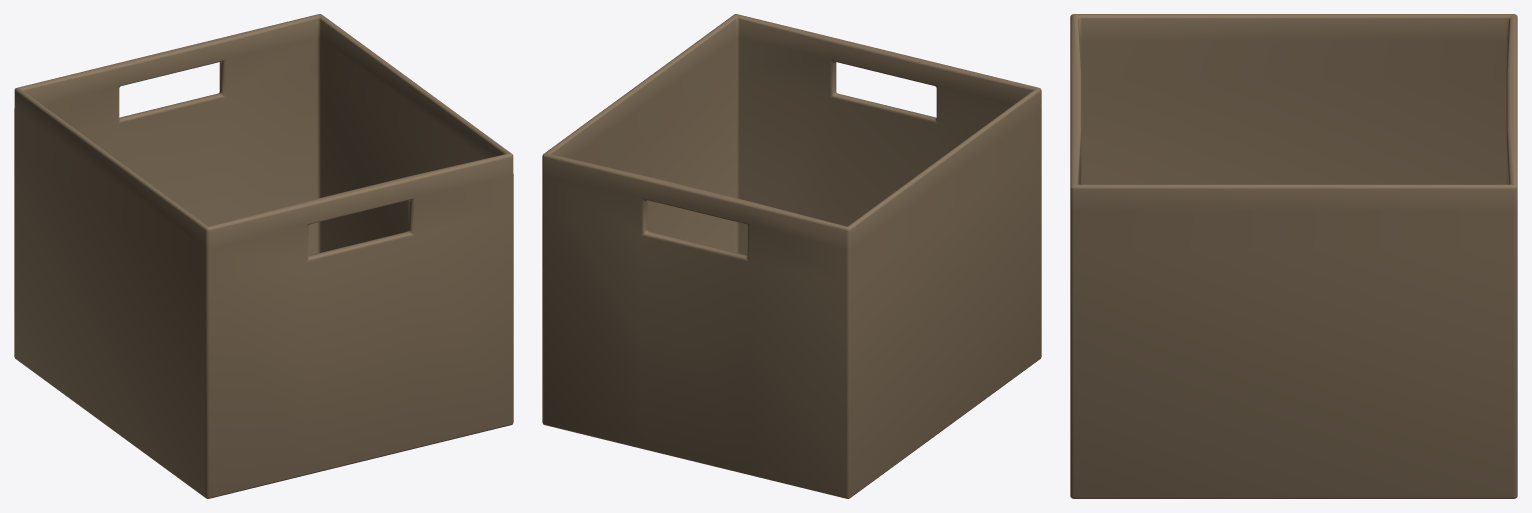
The model's file is pudlo.fbx.
The picture shows the model from 3 angles, left to right: view 1: azimuth 30°, elevation 25°; view 2: azimuth 150°, elevation 25°; view 3: azimuth 270°, elevation 25°; orthographic projection. The views are drawn at different scales.
Visible parts, largest first — view 1: Cube.003; view 2: Cube.003; view 3: Cube.003.
Part boxes in pixels (box(x1,y1,x2,y2)): Cube.003: box(14, 14, 513, 498); Cube.003: box(542, 14, 1041, 498); Cube.003: box(1070, 14, 1517, 498).
Bounding box in the file's own units: 91.78 × 77.31 × 100.
